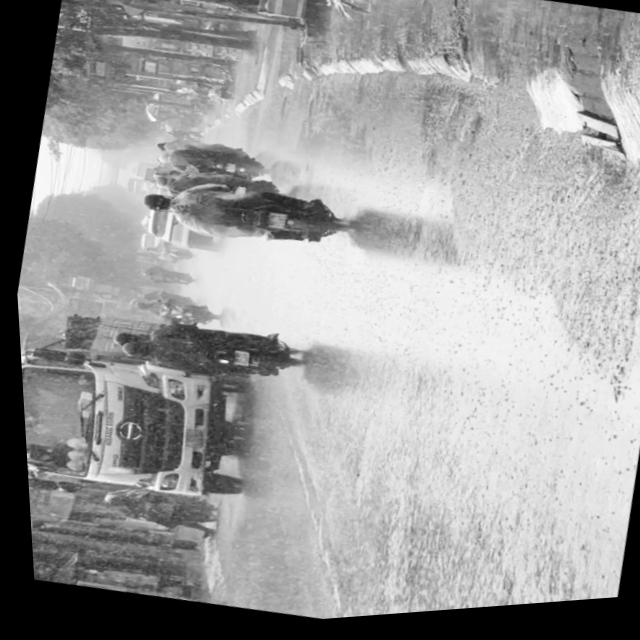helmet: (134, 192, 170, 218), (111, 340, 143, 362), (105, 331, 136, 352)
licenseplate: (127, 162, 355, 275), (100, 301, 307, 405)
nohelmet: (261, 215, 281, 234), (224, 353, 243, 371)
